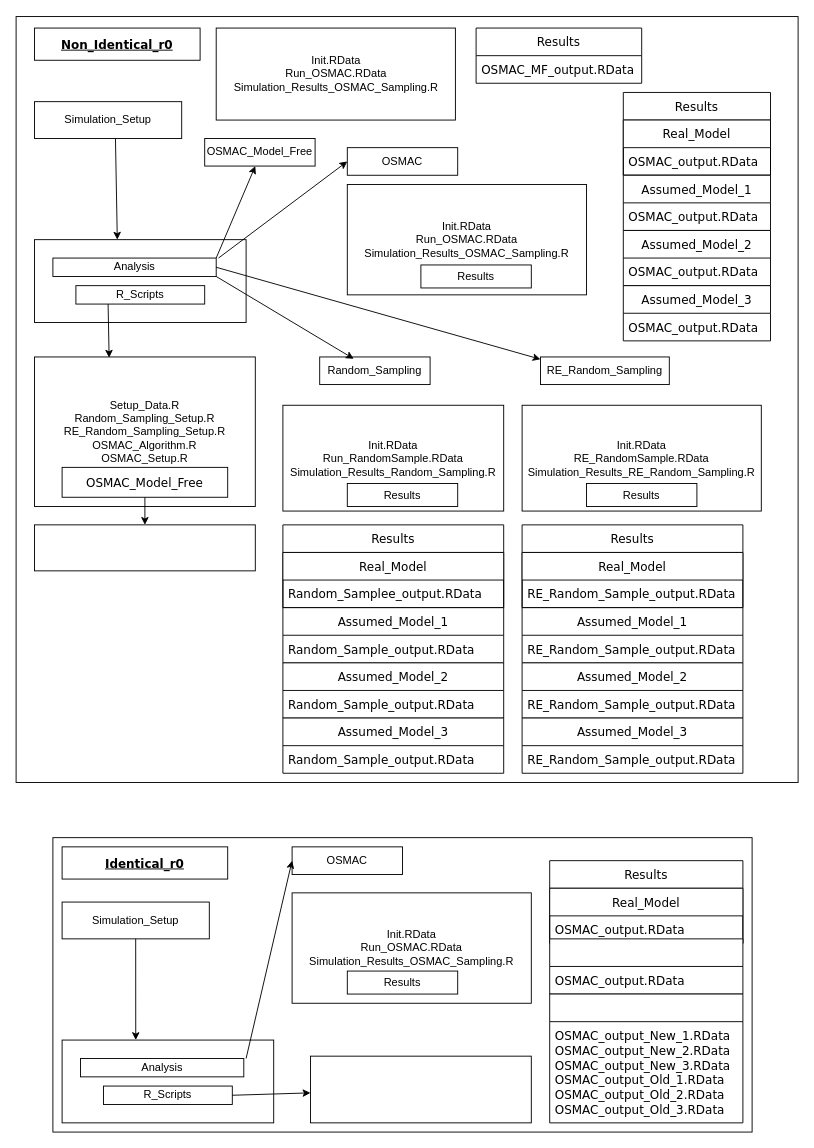
The diagram is 814 pixels wide and 1148 high, and some of its shapes have lost their labels. The box of each missing label's shape, as (x1, y1, x2, y2) in pixels:
Assumed_Model: (549, 993, 743, 1123)
ModelFree: (549, 938, 743, 994)
OSMAC_Algorithm_Model_Free.R OSMAC_Model_Free_Setup.R: (34, 524, 255, 571)
Setup_Data.R OSMAC_Algorithm.R OSMAC_Setup.R: (310, 1055, 531, 1123)
